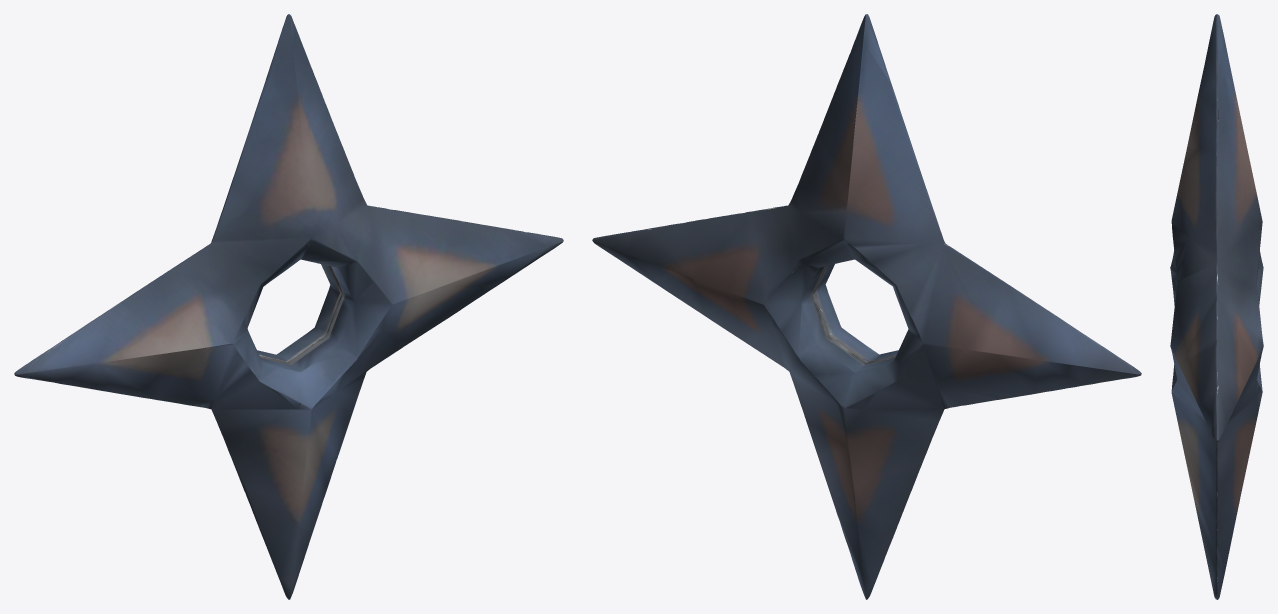
Rendered from 角色武器_忍者_飛鏢.glb.
3 renders of one model, left to right at view 1: azimuth 30°, elevation 25°; view 2: azimuth 150°, elevation 25°; view 3: azimuth 270°, elevation 25°, orthographic.
Visible parts, largest first — view 1: geometry_0; view 2: geometry_0; view 3: geometry_0.
Part boxes in pixels (x1=…): geometry_0: x1=14, y1=14, x2=563, y2=599; geometry_0: x1=592, y1=14, x2=1141, y2=599; geometry_0: x1=1170, y1=14, x2=1263, y2=599.
Size of the model in its own units: 0.983 by 1 by 0.145.
Materials: 1 (1 with a texture image).
